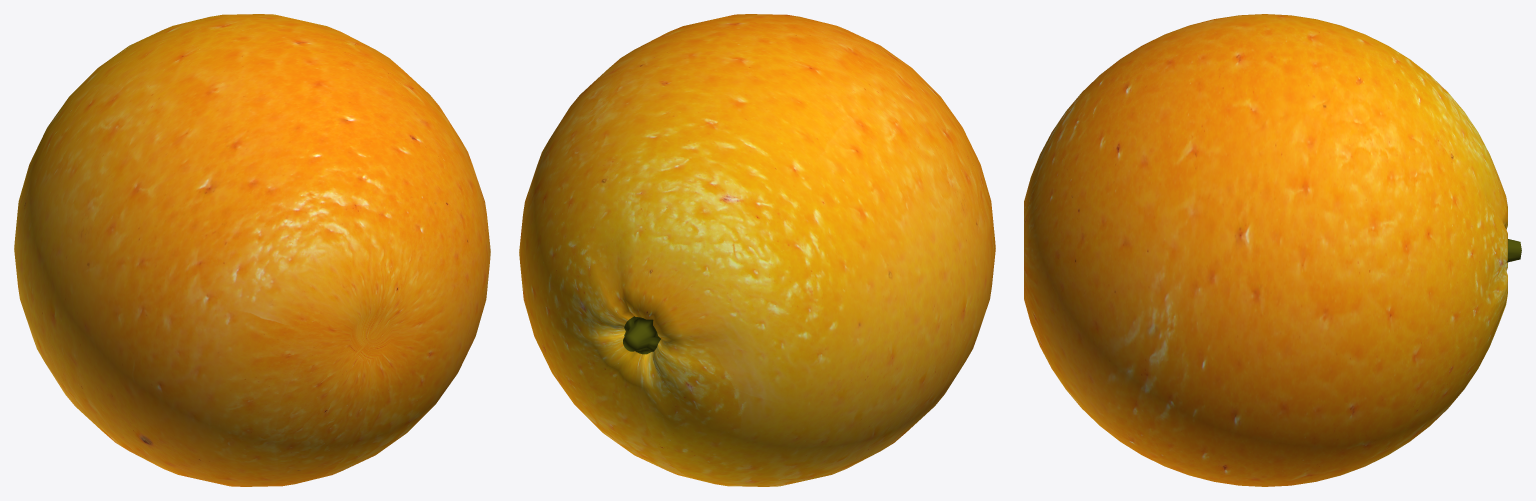
The model's file is Orange.fbx.
3 renders of one model, left to right at view 1: azimuth 30°, elevation 25°; view 2: azimuth 150°, elevation 25°; view 3: azimuth 270°, elevation 25°, orthographic.
Parts seen in each view (by area): view 1: Orange; view 2: Orange; view 3: Orange.
Part boxes in pixels (bbox=[...]): Orange: bbox=[14, 14, 490, 486]; Orange: bbox=[519, 14, 995, 486]; Orange: bbox=[1024, 14, 1521, 486].
Bounding box in the file's own units: 309 × 307 × 324.
